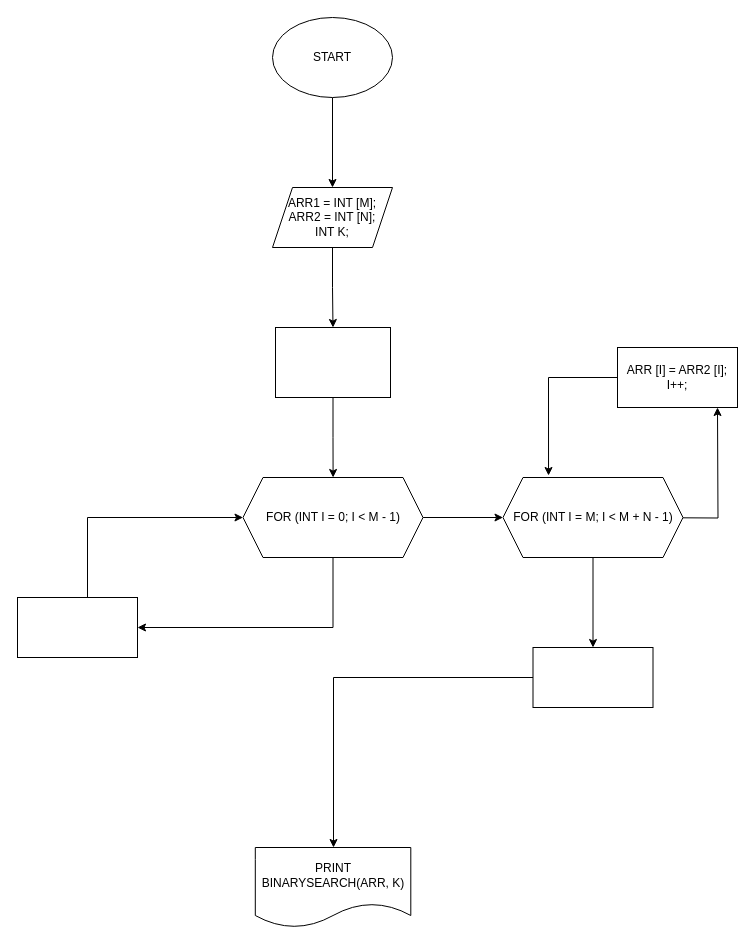
This 755x945 diagram has some shape labels left out. Here are the shapes that lost their labels. From the top down, the centre of each, then its label:
At pixel 332 362: "ARR = INT [M + N];".
At pixel 77 627: "ARR [I] = ARR1 [I]; I++;".
At pixel 592 677: "QUICKSORT(ARR);".
